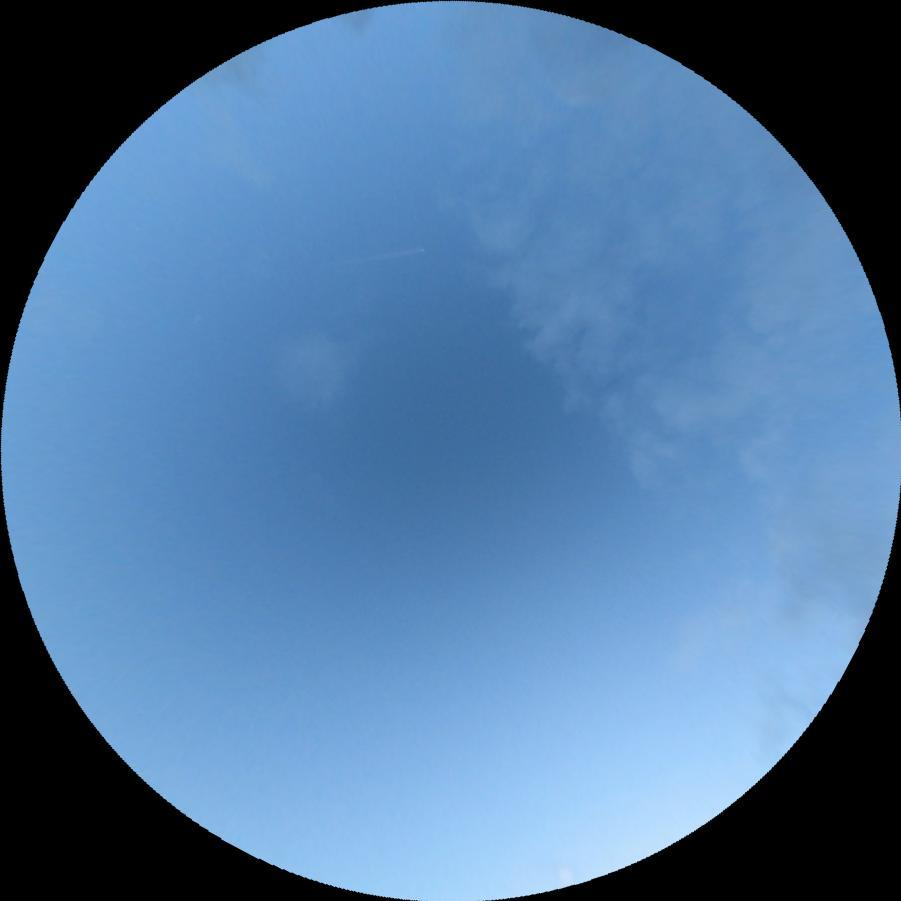contrail young: (300, 245, 425, 271), (182, 312, 202, 327)
